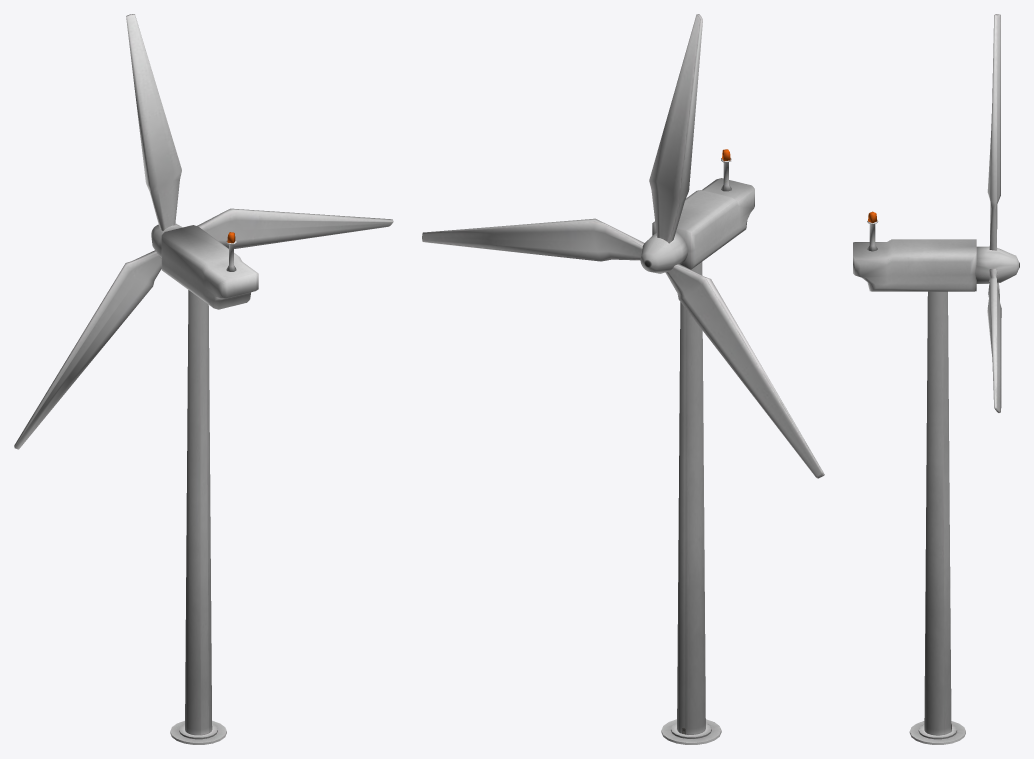
Rendered from m_wind.glb.
3 renders of one model, left to right at view 1: azimuth 30°, elevation 25°; view 2: azimuth 150°, elevation 25°; view 3: azimuth 270°, elevation 25°, orthographic. The views are drawn at different scales.
Parts seen in each view (by area): view 1: body|Material.002, rotor|Material.002; view 2: rotor|Material.002, body|Material.002; view 3: body|Material.002, rotor|Material.002.
Boxes of the visible parts, <box> form: body|Material.002: <box>161,225,258,744</box>; rotor|Material.002: <box>14,14,393,449</box>; rotor|Material.002: <box>422,14,824,478</box>; body|Material.002: <box>652,149,754,744</box>; body|Material.002: <box>853,211,976,744</box>; rotor|Material.002: <box>975,14,1019,412</box>.
Bounding box in the file's own units: 61.94 × 110 × 23.83.
Materials: 2 (2 with a texture image).
